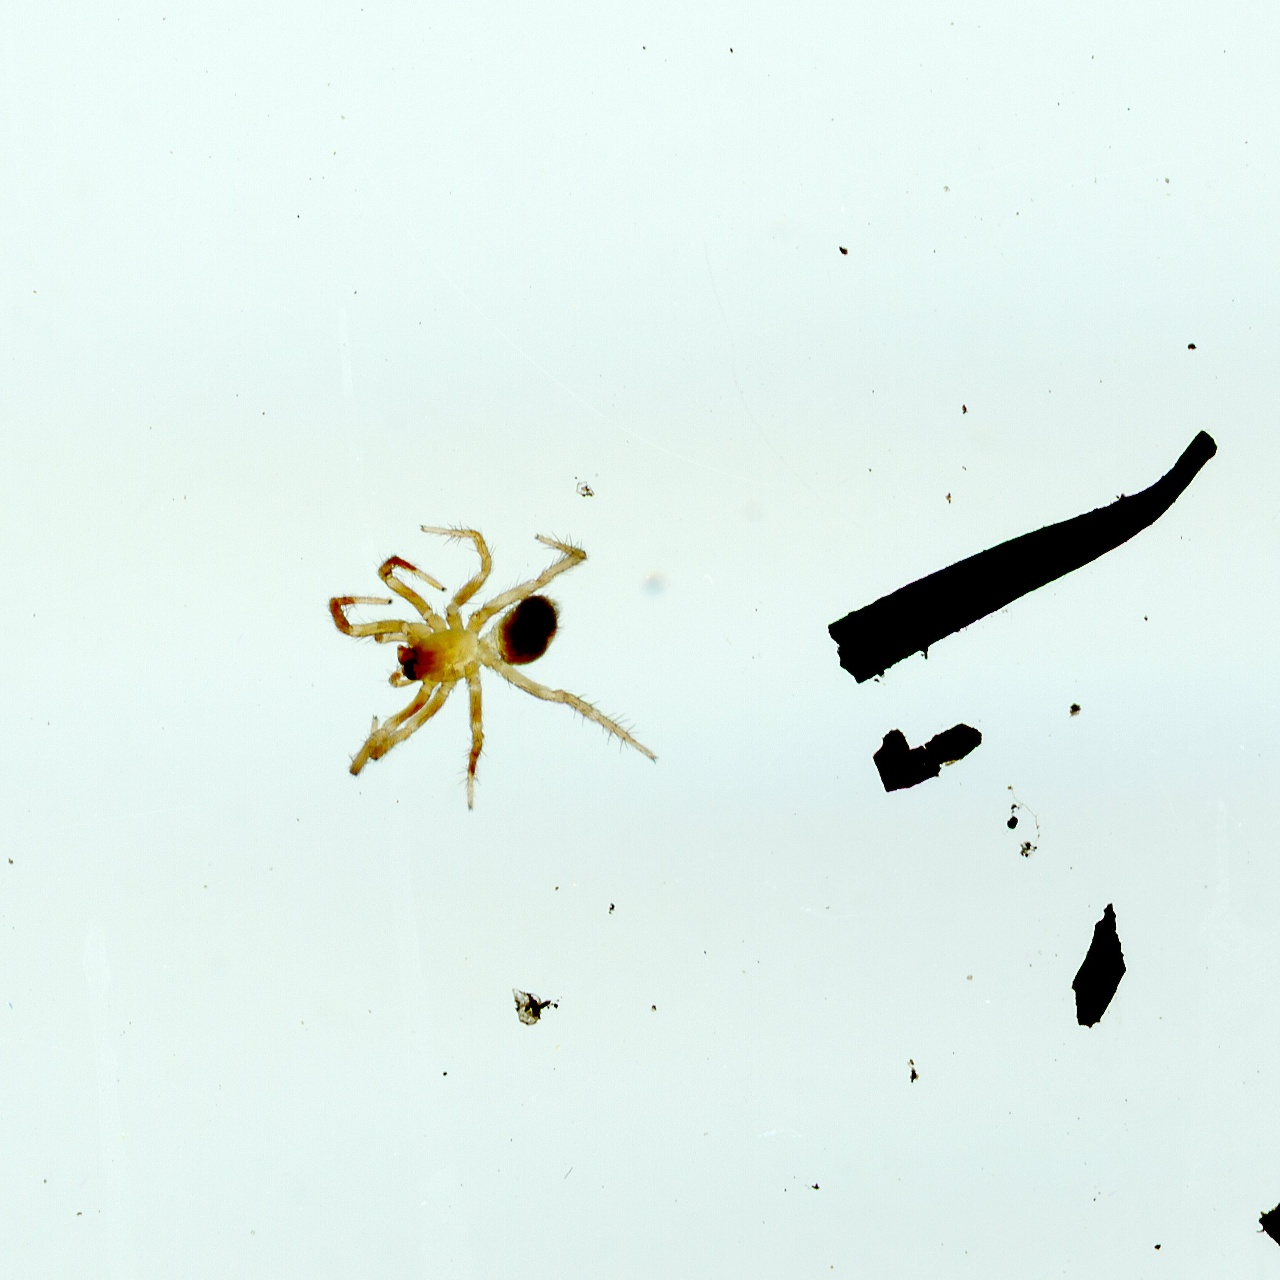arthropod: (323, 519, 654, 808)
